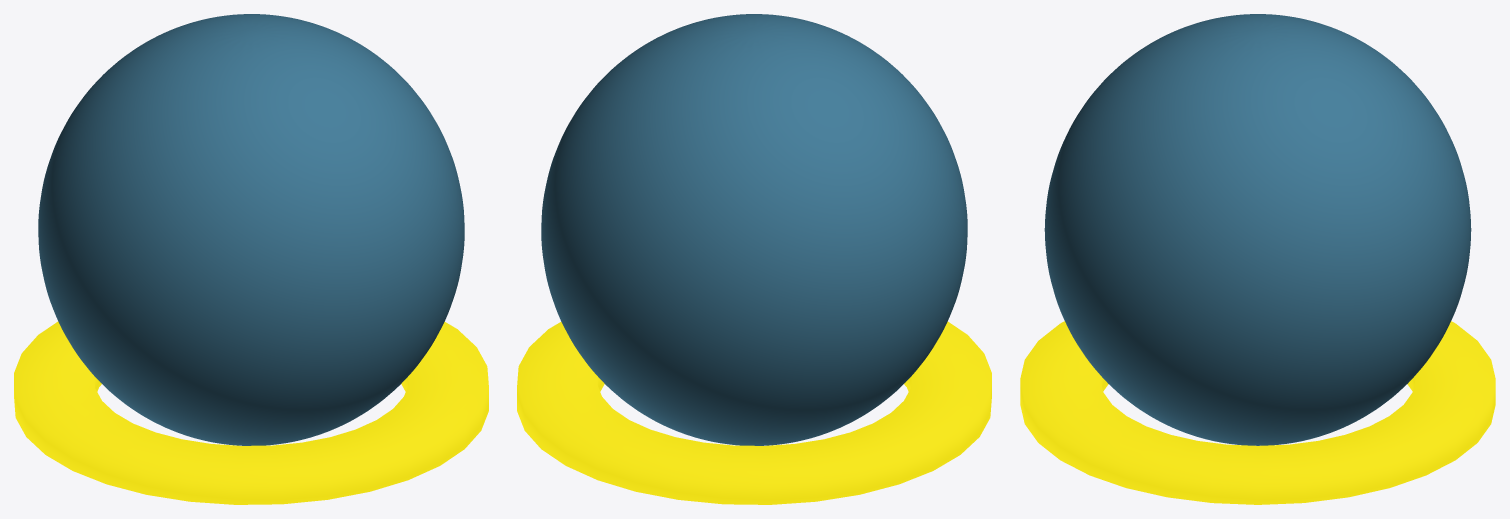
The model's file is marbel.gltf.
The picture shows the model from 3 angles, left to right: view 1: azimuth 30°, elevation 25°; view 2: azimuth 150°, elevation 25°; view 3: azimuth 270°, elevation 25°; orthographic projection.
Visible parts, largest first — view 1: g, Circle; view 2: g, Circle; view 3: g, Circle.
Boxes of the visible parts, x1,y1,x2,y2 form: g: (38, 14, 464, 445); Circle: (14, 321, 488, 504); g: (541, 14, 967, 445); Circle: (517, 321, 991, 504); g: (1044, 14, 1471, 445); Circle: (1020, 321, 1495, 504).
Bounding box in the file's own units: 2.19 × 2 × 2.19.
Materials: 2 (1 with a texture image).
